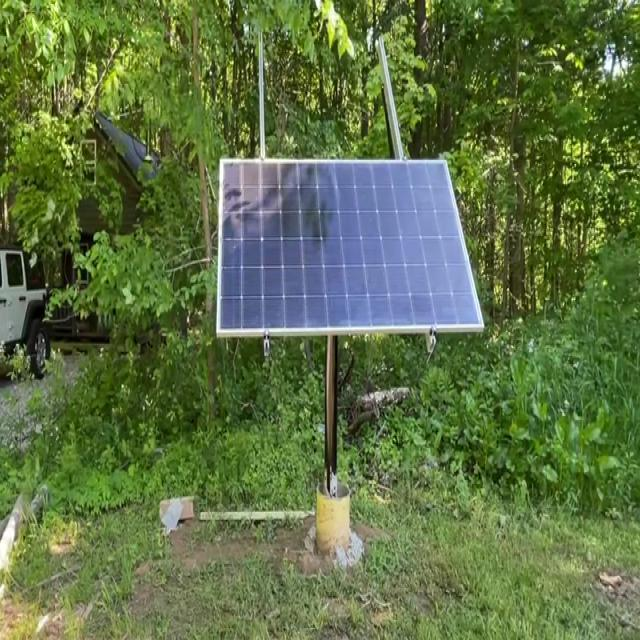Normal Solar Panel: (219, 159, 485, 336)
